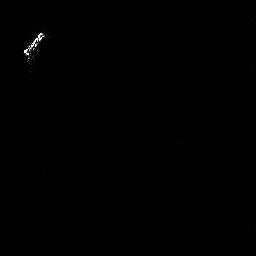ship: (18, 29, 47, 63)
